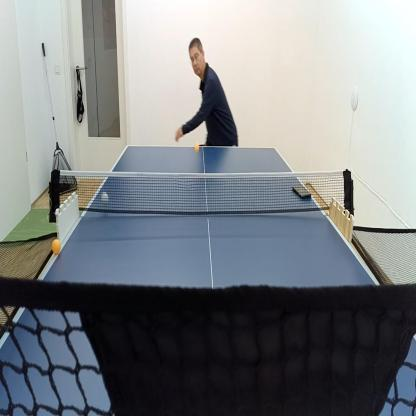Ball: (52, 239, 61, 256), (102, 191, 108, 204), (194, 142, 199, 151)
